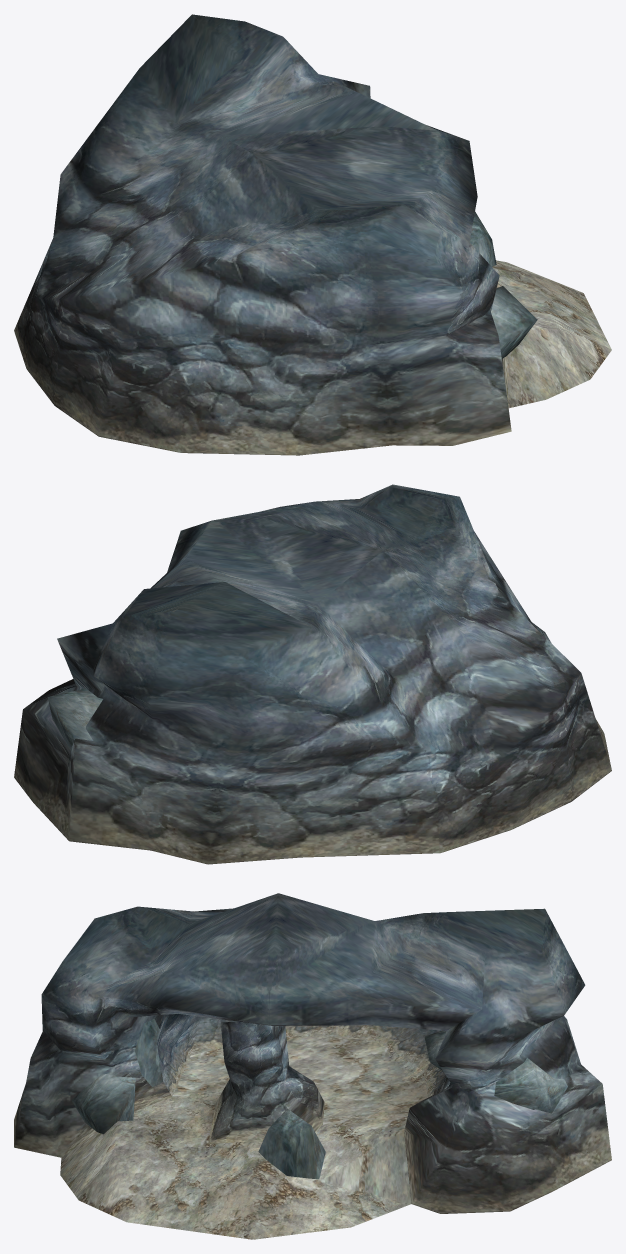
File: animalden.glb
3 renders of one model, top to bottom at view 1: azimuth 30°, elevation 25°; view 2: azimuth 150°, elevation 25°; view 3: azimuth 270°, elevation 25°, orthographic. The views are drawn at different scales.
Bounding box in the file's own units: 7.59 × 3.2 × 7.95.
4 materials, 4 textured.
